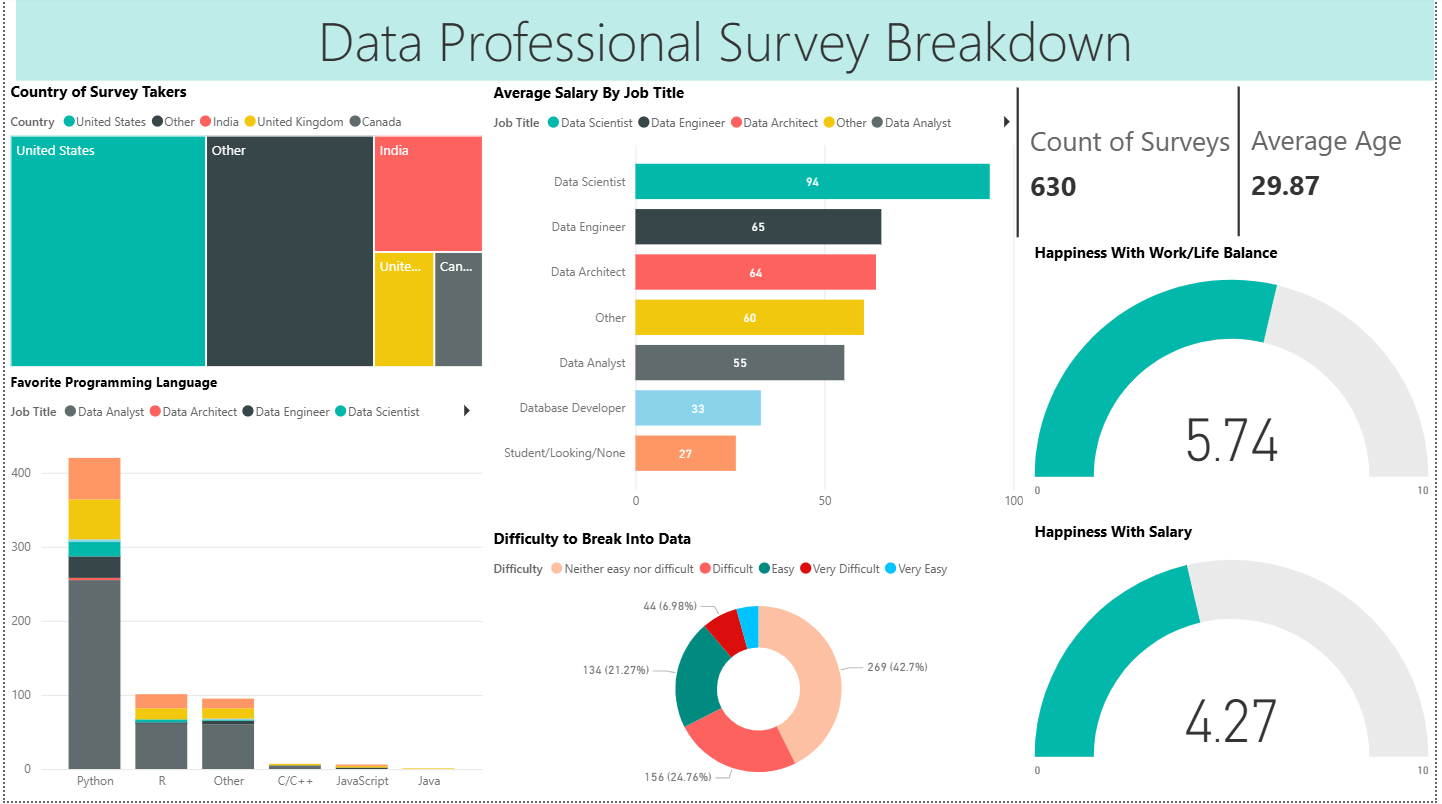

This screenshot's page, from the dashboard's own definition file:
{"tool":"powerbi","page":{"name":"Page 1","canvas":[1280,720],"ordinal":0},"visuals":[{"type":"textbox","box":[9.7,0,1270.3,74.9],"z":0},{"type":"cardVisual","fields":{"Data":["Count(Data Professional Survey.Unique ID)"]},"box":[900.7,75.9,217.9,144.9],"z":1000},{"type":"cardVisual","fields":{"Data":["Avg(Data Professional Survey.Q10 - Current Age)"]},"box":[1099.1,74.9,180.9,144.9],"z":2000},{"type":"barChart","title":"Average Salary By Job Title","fields":{"Category":["Data Professional Survey.Q1 - Which Title Best Fits your Current Role?.1"],"Y":["Avg(Data Professional Survey.Average Salary)"],"Series":["Data Professional Survey.Q1 - Which Title Best Fits your Current Role?.1"]},"box":[432.8,75.9,484.4,392.9],"z":3000},{"type":"columnChart","title":"Favorite Programming Language","fields":{"Category":["Data Professional Survey.Q5 - Favorite Programming Language.1"],"Y":["CountNonNull(Data Professional Survey.Unique ID)"],"Series":["Data Professional Survey.Q1 - Which Title Best Fits your Current Role?"]},"box":[0,335.6,432.8,384.2],"z":4000},{"type":"treemap","title":"Country of Survey Takers","fields":{"Group":["Data Professional Survey.Q11 - Which Country do you live in?.1"],"Values":["CountNonNull(Data Professional Survey.Q11 - Which Country do you live in?.1)"]},"box":[0,74.9,432.8,260.7],"z":5000},{"type":"gauge","title":"Happiness With Work/Life Balance","fields":{"Y":["Avg(Data Professional Survey.Q6 - How Happy are you in your Current Position with the following? (Work/Life Balance))"],"MinValue":["Min(Data Professional Survey.Q6 - How Happy are you in your Current Position with the following? (Work/Life Balance))1"],"MaxValue":["Max(Data Professional Survey.Q6 - How Happy are you in your Current Position with the following? (Work/Life Balance))2"]},"box":[917.2,219.8,362.8,249],"z":6000},{"type":"gauge","title":"Happiness With Salary","fields":{"Y":["Avg(Data Professional Survey.Q6 - How Happy are you in your Current Position with the following? (Salary))"],"MinValue":["Min(Data Professional Survey.Q6 - How Happy are you in your Current Position with the following? (Salary))"],"MaxValue":["Max(Data Professional Survey.Q6 - How Happy are you in your Current Position with the following? (Salary))"]},"box":[917.2,468.8,362.8,250.9],"z":7000},{"type":"donutChart","title":"Difficulty to Break Into Data","fields":{"Category":["Data Professional Survey.Q7 - How difficult was it for you to break into Data?"],"Y":["CountNonNull(Data Professional Survey.Q7 - How difficult was it for you to break into Data?)"]},"box":[432.8,475.6,484.4,244.1],"z":8000}]}

Visuals, with their boxes in screenshot pixels (x1, y1, x2, y2), scaled from the page's 1280x720 canvas onto the 1442x804 screenshot:
textbox: x1=11, y1=0, x2=1441, y2=84
cardVisual - Count(Data Professional Survey.Unique ID): x1=1015, y1=85, x2=1260, y2=247
cardVisual - Avg(Data Professional Survey.Q10 - Current Age): x1=1238, y1=84, x2=1441, y2=245
"Average Salary By Job Title" barChart: x1=488, y1=85, x2=1033, y2=523
"Favorite Programming Language" columnChart: x1=0, y1=375, x2=488, y2=803
"Country of Survey Takers" treemap: x1=0, y1=84, x2=488, y2=375
"Happiness With Work/Life Balance" gauge: x1=1033, y1=245, x2=1441, y2=523
"Happiness With Salary" gauge: x1=1033, y1=523, x2=1441, y2=803
"Difficulty to Break Into Data" donutChart: x1=488, y1=531, x2=1033, y2=803
